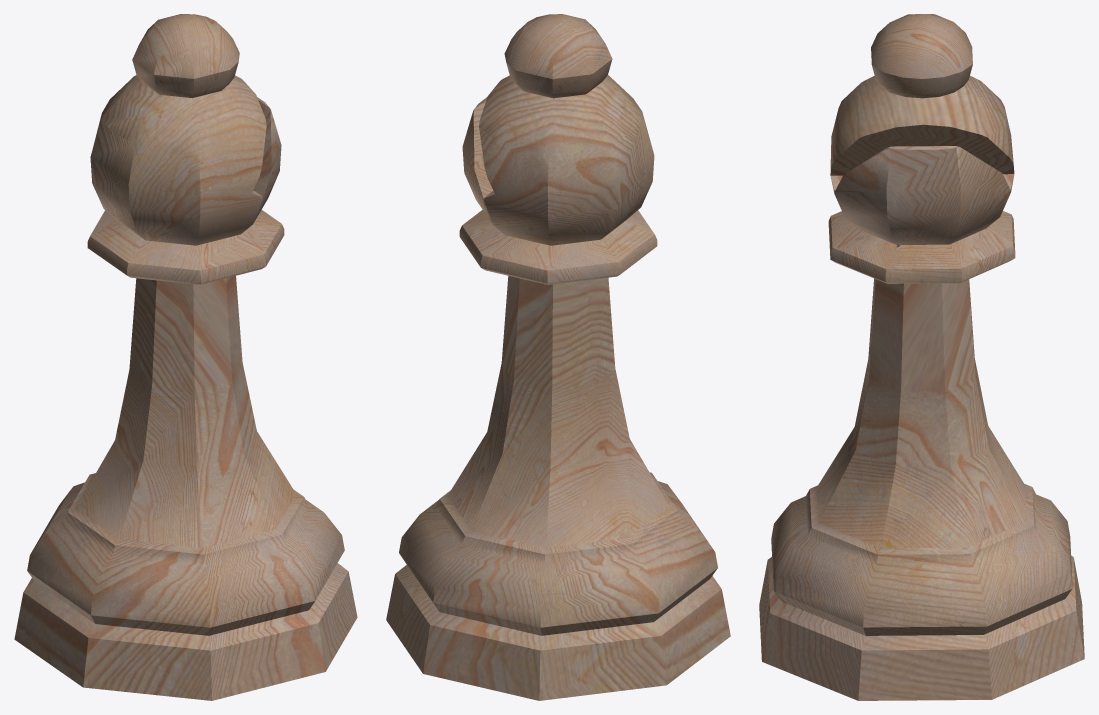
File: Bishop_white.glb
3 views of the same model, side by side, from view 1: azimuth 30°, elevation 25°; view 2: azimuth 150°, elevation 25°; view 3: azimuth 270°, elevation 25° (orthographic).
Visible parts, largest first — view 1: Object_20; view 2: Object_20; view 3: Object_20.
Part boxes in pixels (x1,y1,x2,y2): Object_20: (14,14,357,700); Object_20: (386,14,730,700); Object_20: (759,14,1084,700).
Bounding box in the file's own units: 0.0277 × 0.0576 × 0.0277.
1 material, 1 textured.
